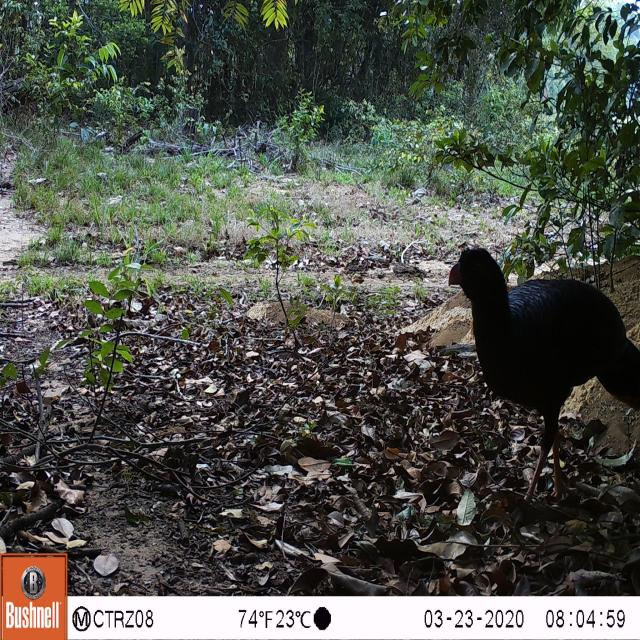Salvins Curassow: (420, 221, 640, 545)
